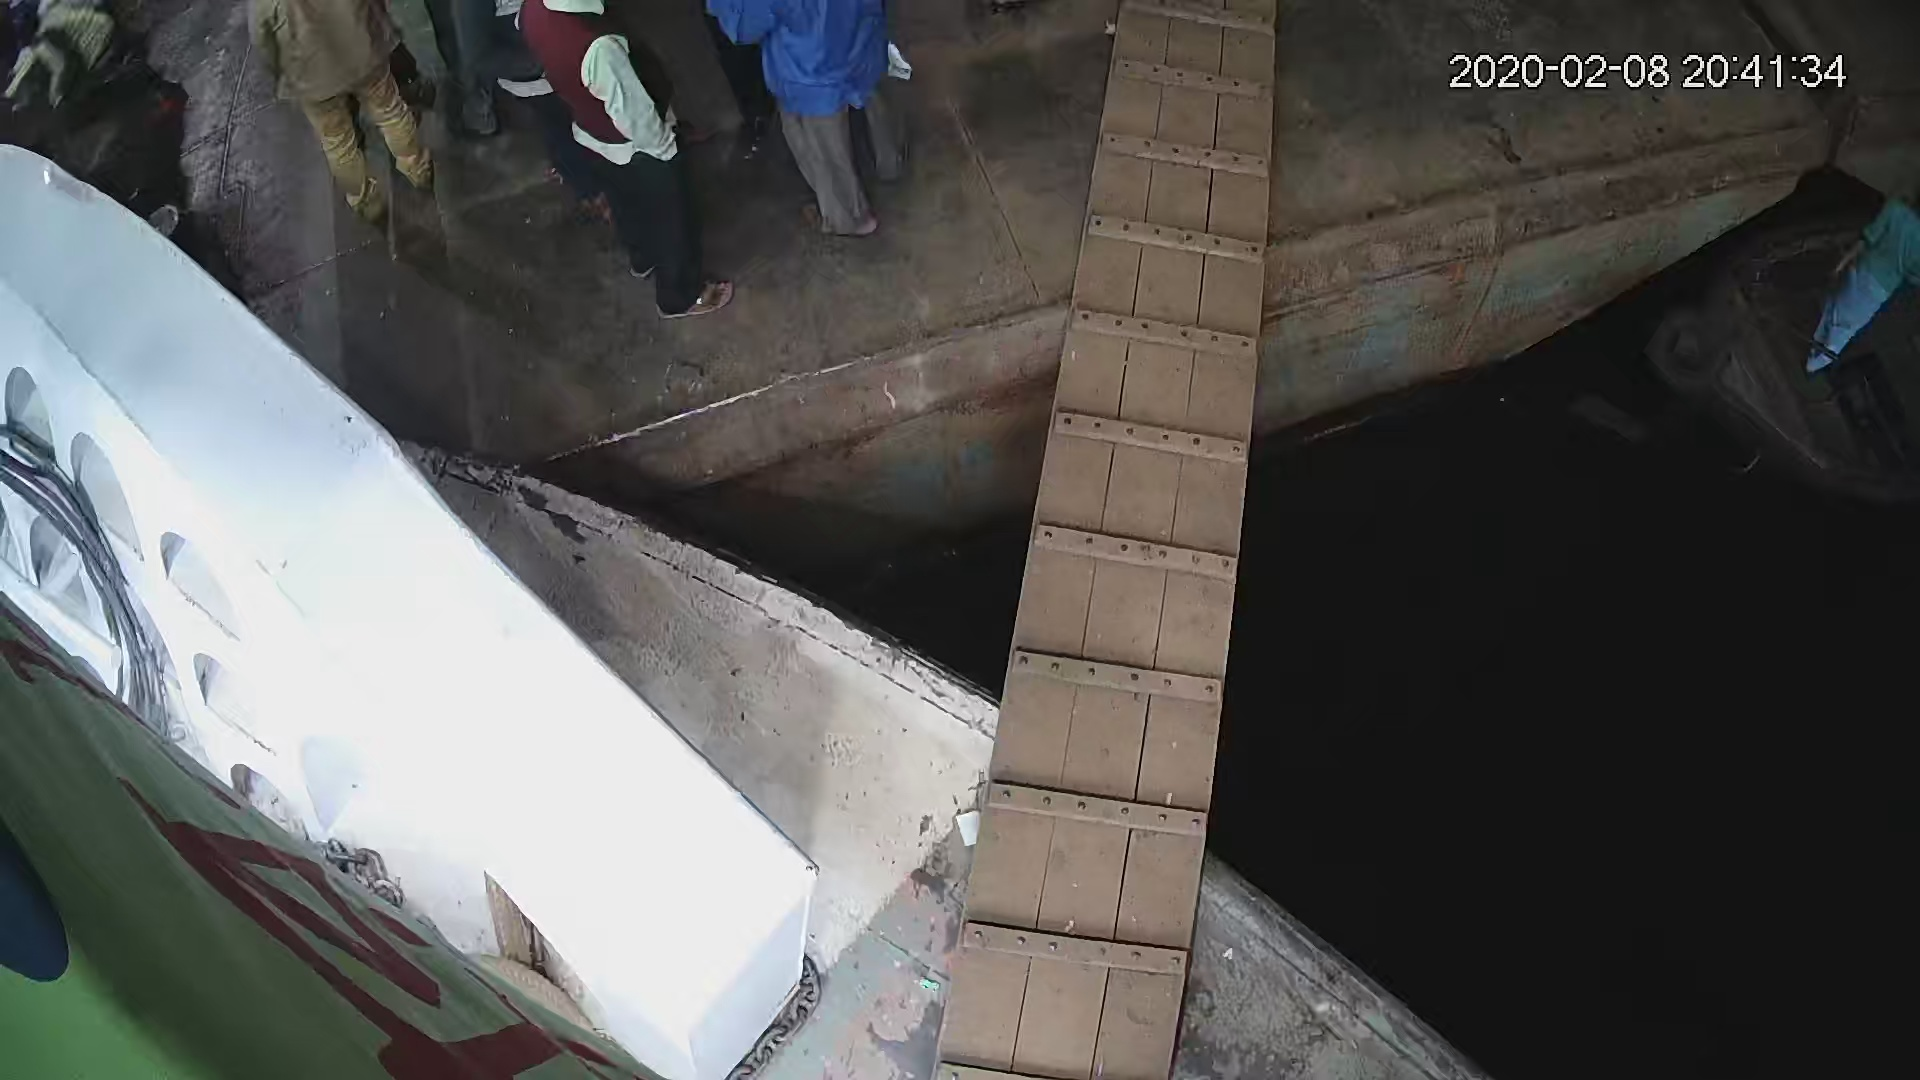person: (515, 5, 736, 326), (729, 5, 915, 253), (254, 5, 438, 234), (1792, 170, 1917, 374)
